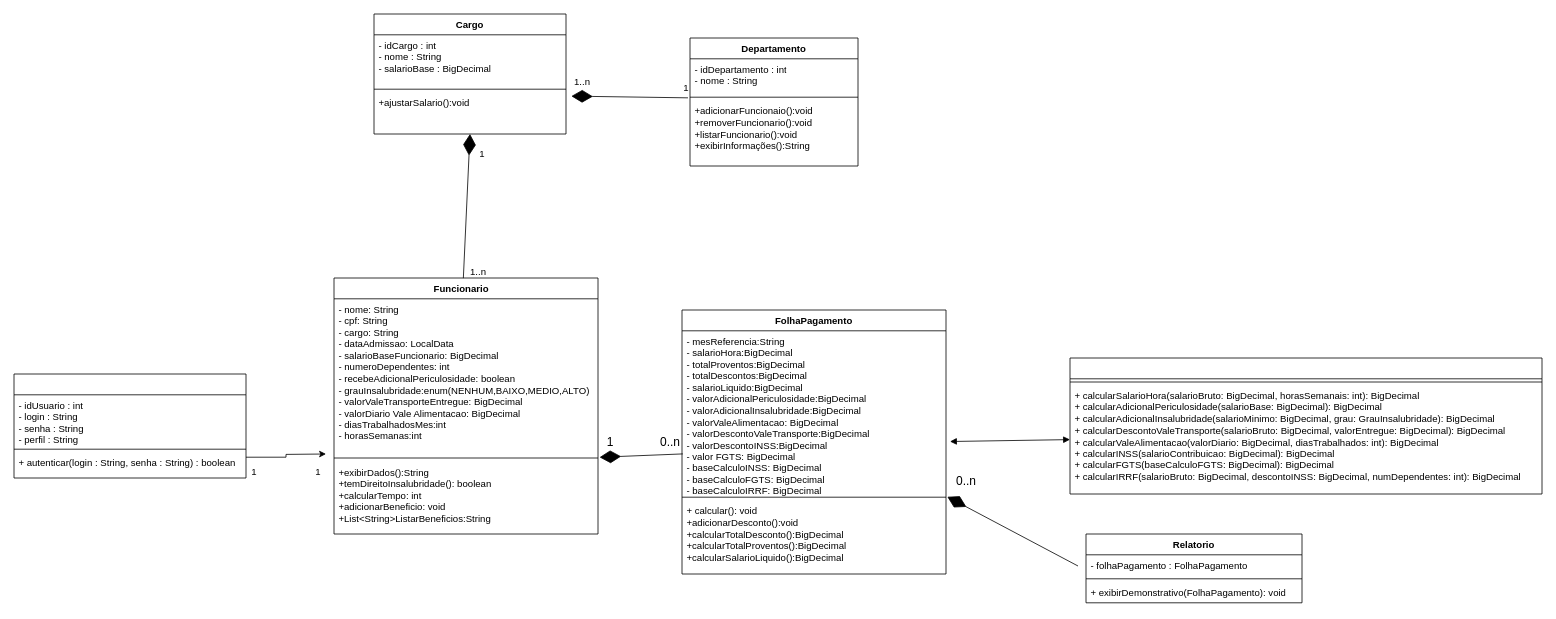
The diagram is 1556 pixels wide and 619 high, and some of its shapes have lost their labels. Each missing label, with the box of its shape:
Autentificacao: (13, 373, 246, 478)
CalculadoraFolha: (1069, 357, 1542, 494)
